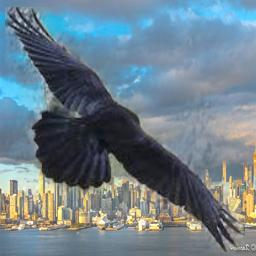Crow: (5, 7, 245, 253)
